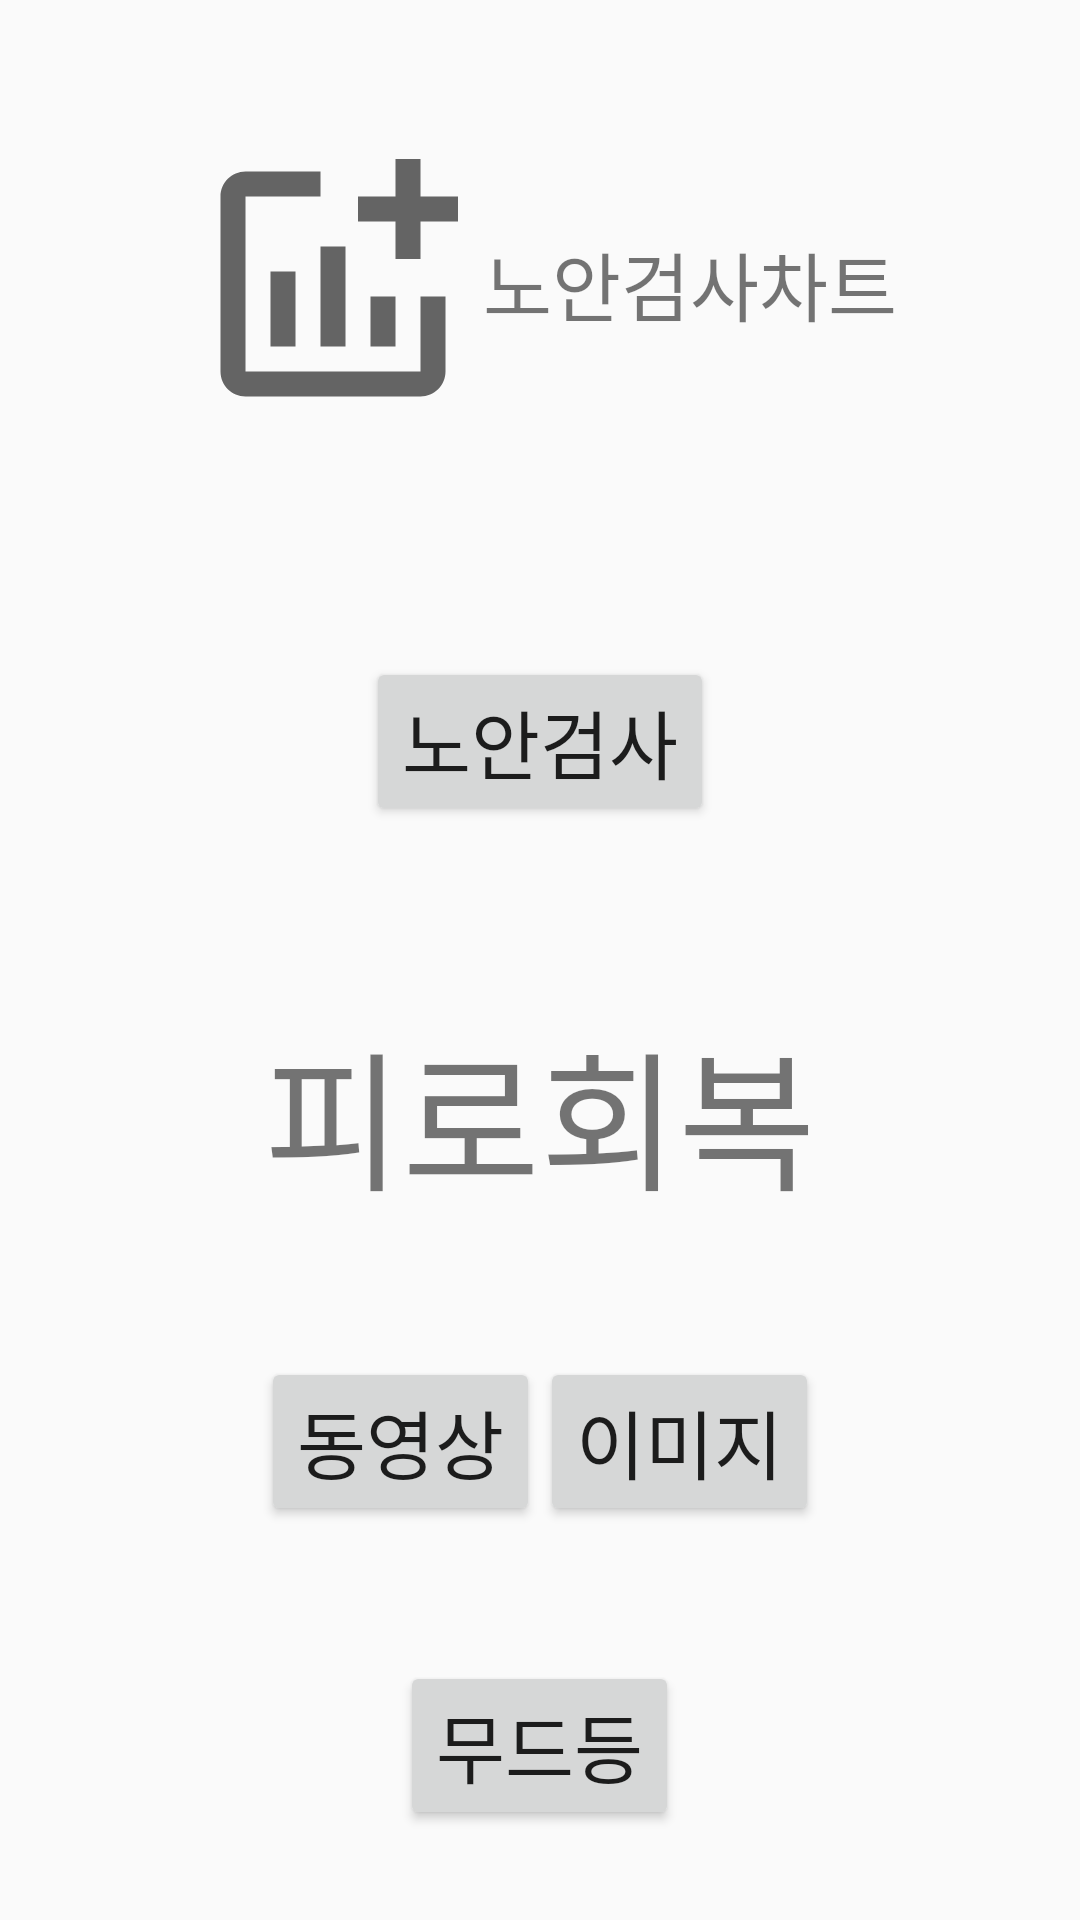

Icons on this 1080w x 1920h Android screen, each with the point to tap as (x=x, y=y):
addchart: (x=339, y=278)
